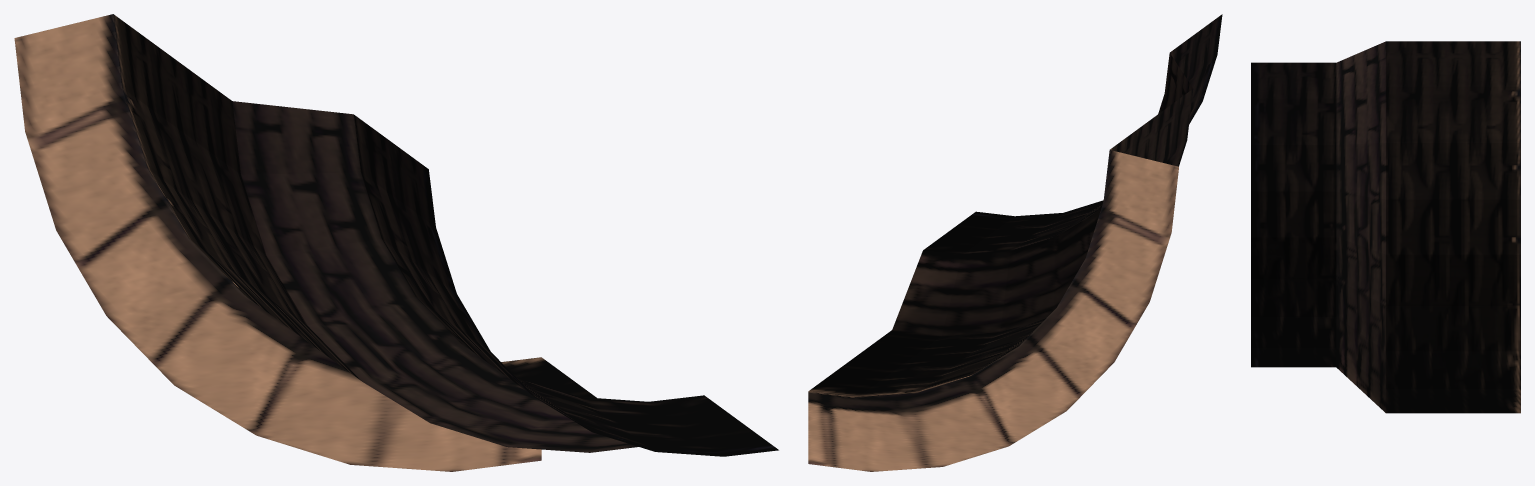
Rendered from ex_2InCorner1.obj.
3 renders of one model, left to right at view 1: azimuth 30°, elevation 25°; view 2: azimuth 150°, elevation 25°; view 3: azimuth 270°, elevation 25°, orthographic. The views are drawn at different scales.
Visible parts, largest first — view 1: ex_InCorner1_Cube; view 2: ex_InCorner1_Cube; view 3: ex_InCorner1_Cube.
Boxes of the visible parts, bbox=[...] form: ex_InCorner1_Cube: bbox=[14, 14, 778, 471]; ex_InCorner1_Cube: bbox=[808, 14, 1222, 471]; ex_InCorner1_Cube: bbox=[1251, 41, 1520, 413].
Bounding box in the file's own units: 174 × 174 × 136.
